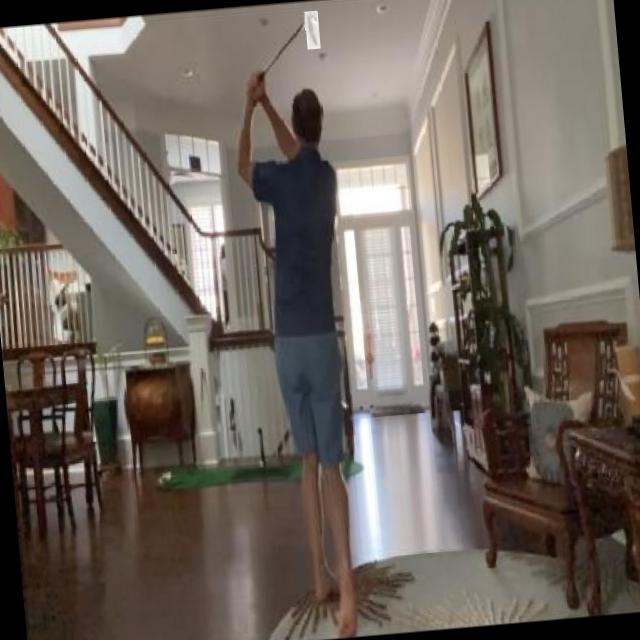club head: (304, 10, 320, 49)
